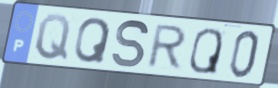0: (227, 28, 262, 80)
Q: (73, 16, 113, 65), (33, 12, 72, 62), (187, 26, 225, 76)
R: (144, 23, 190, 72)
S: (110, 18, 151, 71)
